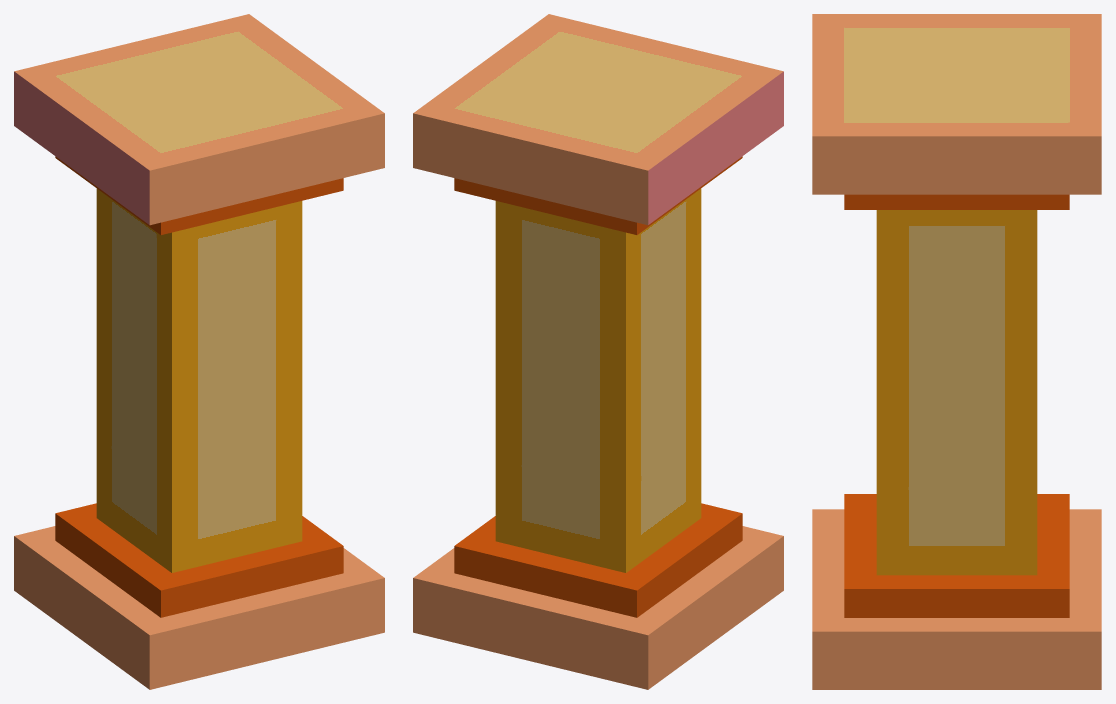
File: annnnnnyád.fbx
The picture shows the model from 3 angles, left to right: view 1: azimuth 30°, elevation 25°; view 2: azimuth 150°, elevation 25°; view 3: azimuth 270°, elevation 25°; orthographic projection. The views are drawn at different scales.
Parts seen in each view (by area): view 1: cube_2, cube_4, cube, cube_1, cube_3; view 2: cube_2, cube_4, cube, cube_1, cube_3; view 3: cube_2, cube_4, cube, cube_1, cube_3.
Part boxes in pixels (x1,y1,x2,y2): cube_2: (96, 188, 302, 572); cube_4: (14, 14, 384, 225); cube: (14, 526, 384, 689); cube_1: (55, 503, 343, 617); cube_3: (55, 156, 343, 234); cube_2: (495, 188, 701, 572); cube_4: (413, 14, 783, 225); cube: (413, 526, 783, 689); cube_1: (454, 503, 742, 617); cube_3: (454, 156, 742, 234); cube_2: (876, 210, 1037, 575); cube_4: (812, 14, 1101, 194); cube: (812, 509, 1101, 689); cube_1: (844, 494, 1069, 617); cube_3: (844, 194, 1069, 209).
Bounding box in the file's own units: 56.25 × 119 × 56.25.
1 material, 1 textured.
